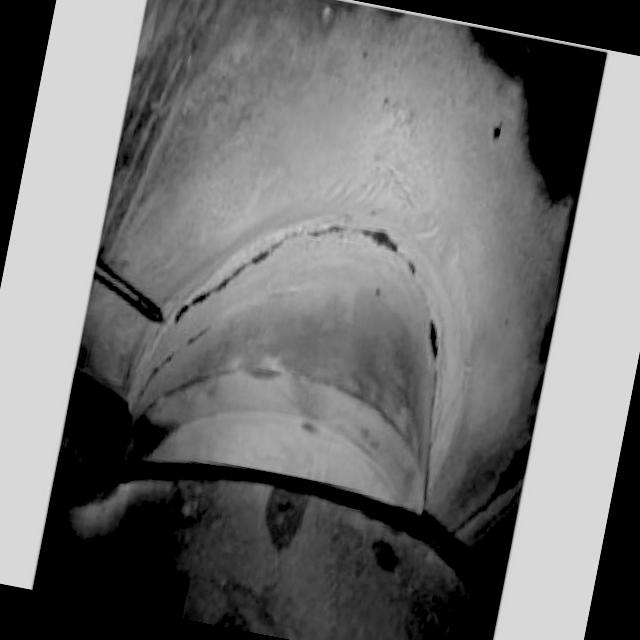crack: (168, 205, 447, 428), (129, 324, 212, 423)
